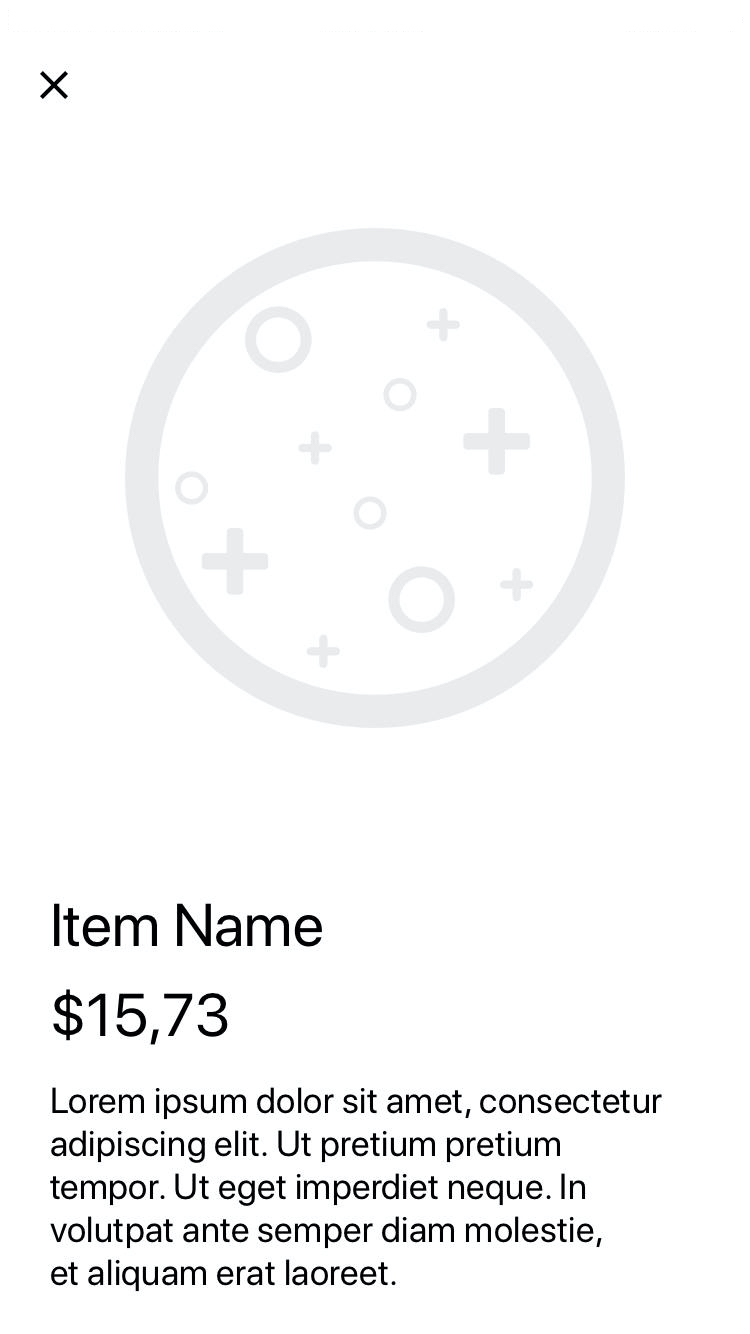Icon: (40, 71, 70, 101)
Image: (127, 228, 627, 730)
Text: (49, 1087, 664, 1293), (52, 901, 324, 946), (53, 988, 230, 1044)
